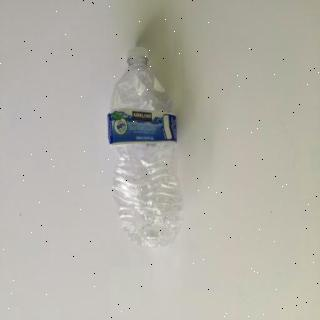Plastic-bottle: (106, 46, 187, 250)
